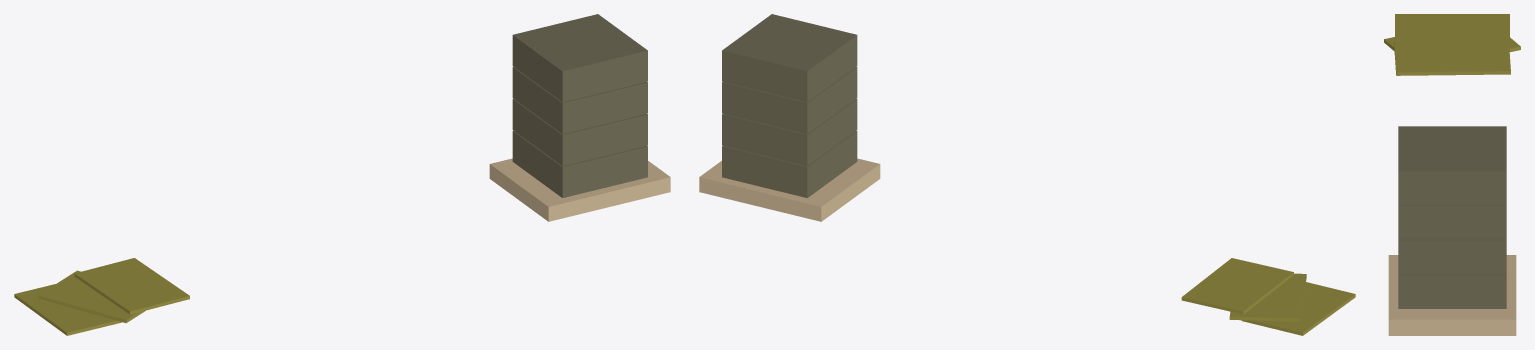
The model's file is SM_ObraSacos_v2_10m_LOD0.fbx.
The picture shows the model from 3 angles, left to right: view 1: azimuth 30°, elevation 25°; view 2: azimuth 150°, elevation 25°; view 3: azimuth 270°, elevation 25°; orthographic projection. The views are drawn at different scales.
Parts seen in each view (by area): view 1: SM_obra_curso_v5_LOD0; view 2: SM_obra_curso_v5_LOD0; view 3: SM_obra_curso_v5_LOD0.
Part boxes in pixels (<box>): SM_obra_curso_v5_LOD0: <box>14,14,670,335</box>; SM_obra_curso_v5_LOD0: <box>699,14,1355,335</box>; SM_obra_curso_v5_LOD0: <box>1384,14,1520,335</box>.
Size of the model in its own units: 5.9 by 1.34 by 1.07.
